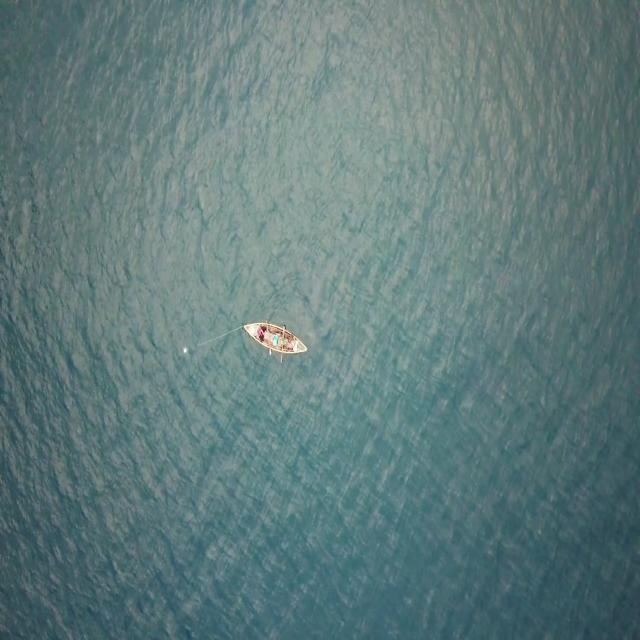ship: (237, 316, 310, 357)
